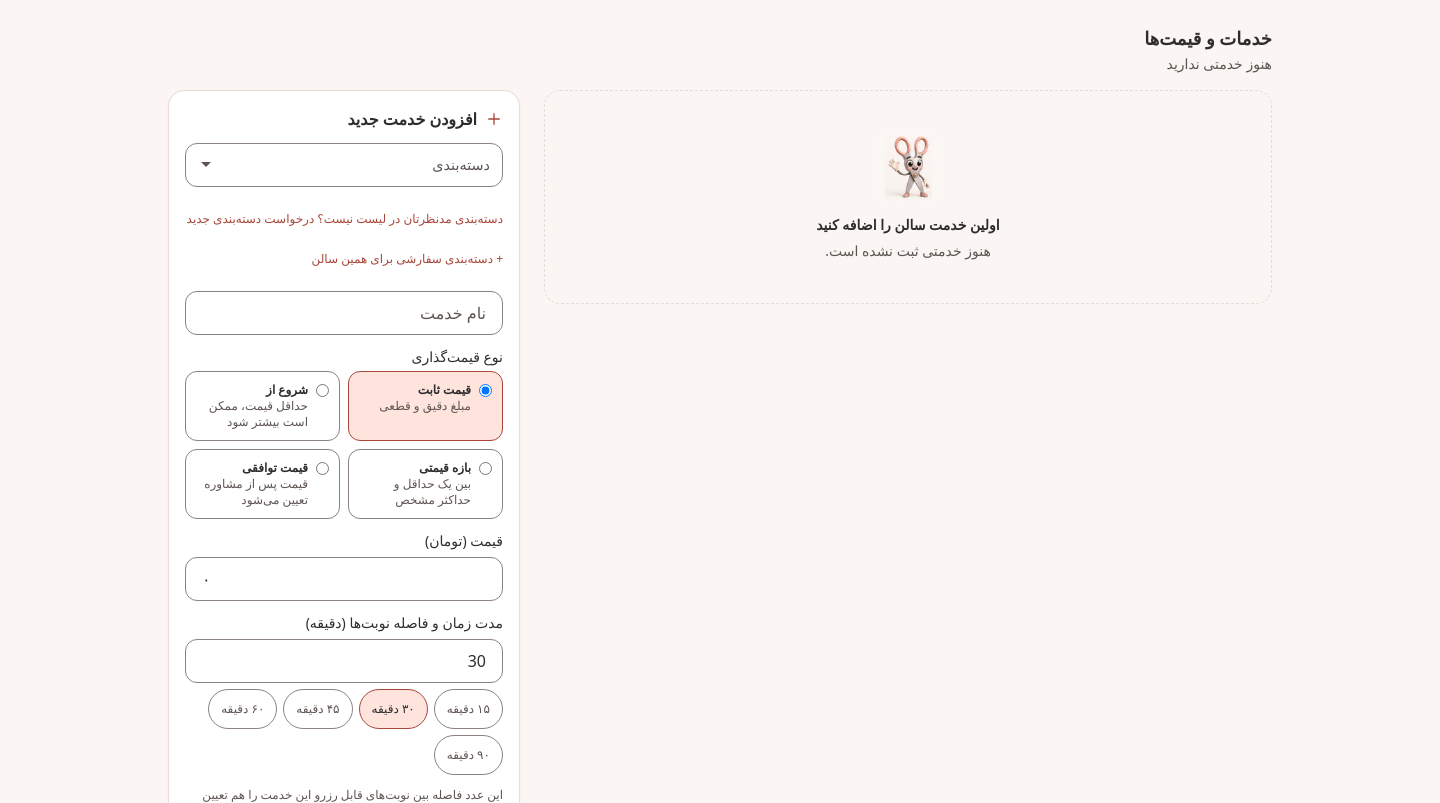
Scenario: ServicesView › sets the new-service form duration via a preset button
This screenshot has width=1440, height=803.
Click the button with test id "new-service-duration-preset-15" at (468, 709), box [434,689,503,729]
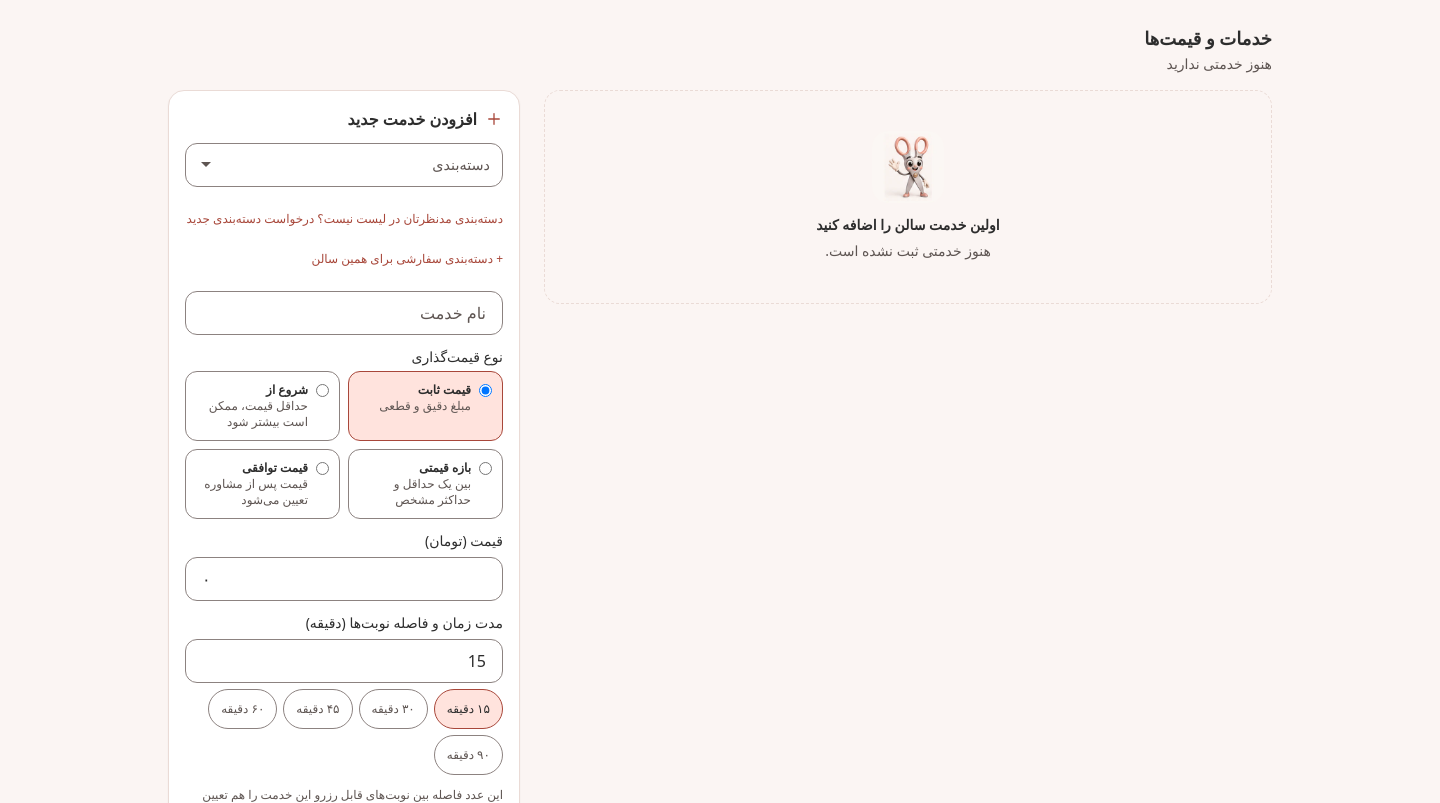
Now the number field labelled "مدت زمان و فاصله نوبت‌ها (دقیقه)" holds "15", box [185,639,503,683]
